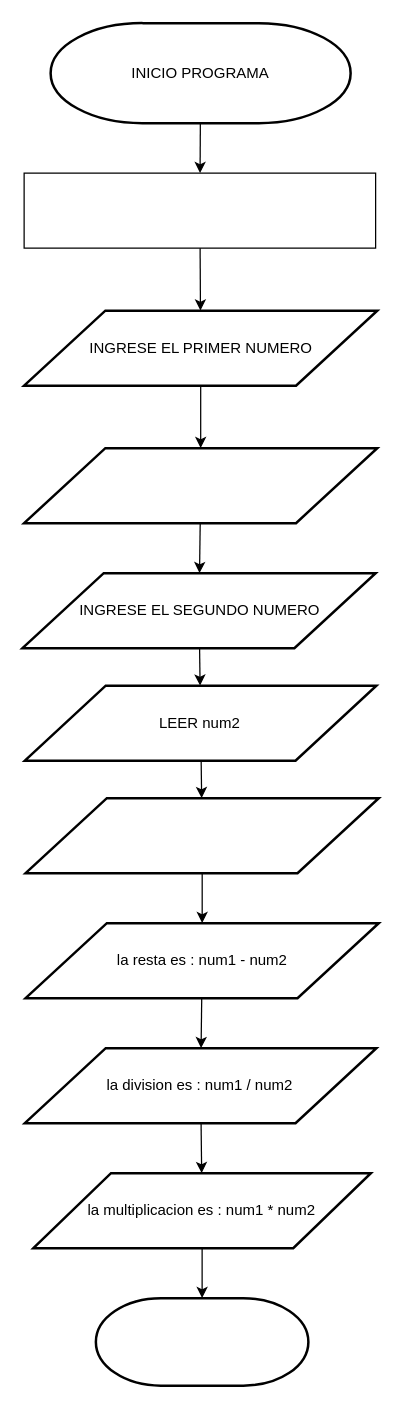
Some shapes in this 401 by 1408 pixel diagram are drawn without their labels. Here are the shapes that lost their labels. From the top down, the centre of each, then its label:
At (199,210): "definir num1, num2 como entero".
At (200,485): "LEER num1".
At (201,835): "la suma es : num1 + num2".
At (201,1341): "FINAL".
